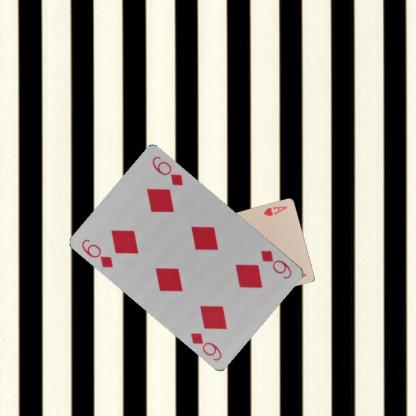6d: (79, 236, 115, 270), (258, 247, 294, 280)
Ah: (261, 204, 288, 218)
